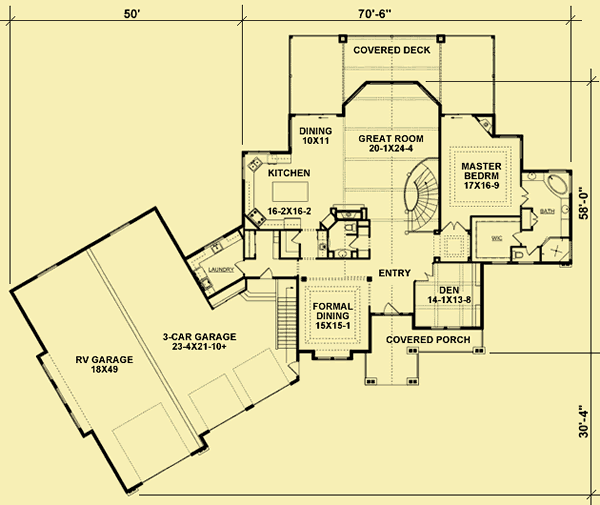door: (418, 265, 436, 282), (441, 220, 466, 232), (382, 300, 399, 317), (287, 361, 301, 379), (233, 260, 245, 277), (520, 186, 530, 205), (258, 267, 275, 278)
large_sink: (342, 221, 358, 233), (511, 248, 524, 262)
small_sink: (519, 171, 546, 182), (560, 196, 571, 221), (333, 249, 351, 258)
stairs: (401, 156, 438, 233), (274, 277, 298, 351)
tub: (546, 173, 567, 196)
twin_sink: (247, 157, 263, 172)
windows: (315, 356, 347, 362), (428, 327, 464, 332)
